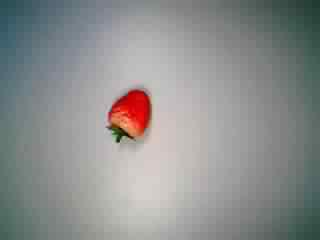strawberry: (96, 83, 162, 145)
